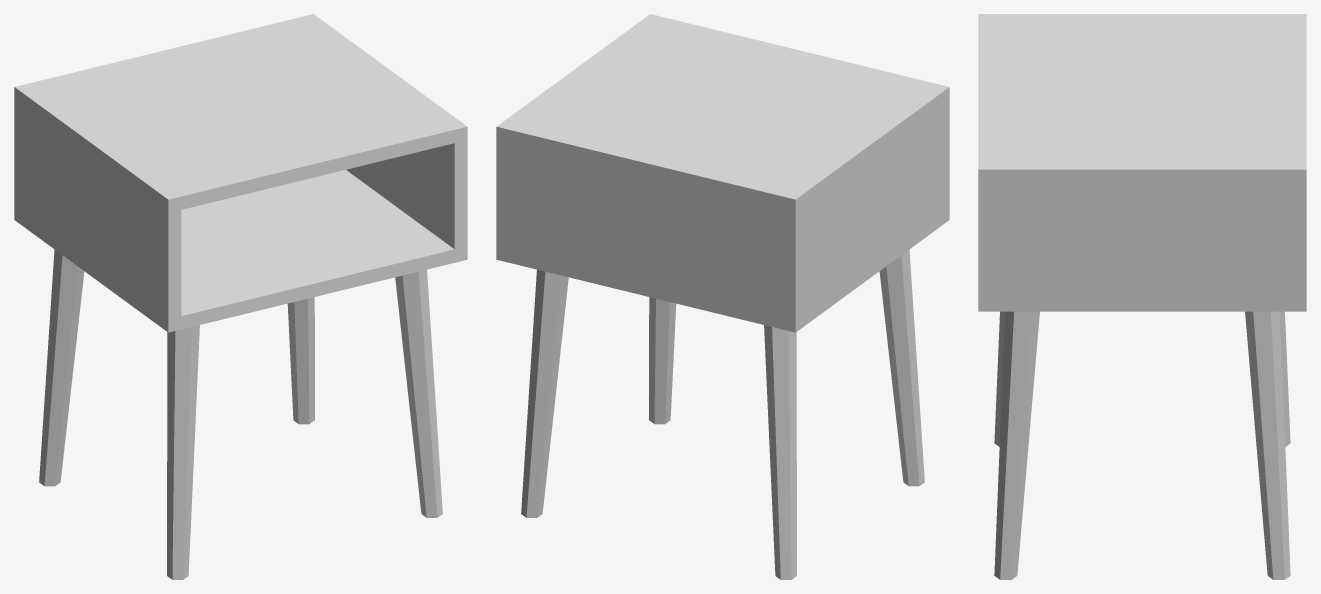
File: BedTable3_C3.fbx
3 views of the same model, side by side, from view 1: azimuth 30°, elevation 25°; view 2: azimuth 150°, elevation 25°; view 3: azimuth 270°, elevation 25° (orthographic). The views are drawn at different scales.
Visible parts, largest first — view 1: BedTable3_C3; view 2: BedTable3_C3; view 3: BedTable3_C3.
Boxes of the visible parts, x1=… form: BedTable3_C3: x1=14, y1=14, x2=467, y2=579; BedTable3_C3: x1=496, y1=14, x2=949, y2=579; BedTable3_C3: x1=978, y1=14, x2=1306, y2=579.
Bounding box in the file's own units: 40 × 50 × 35.65.
